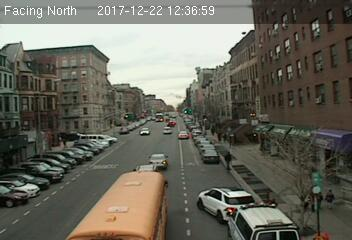car: (195, 185, 257, 225), (147, 153, 169, 168), (201, 148, 219, 162), (177, 129, 190, 139), (138, 126, 150, 135)
police: (225, 201, 302, 240)
